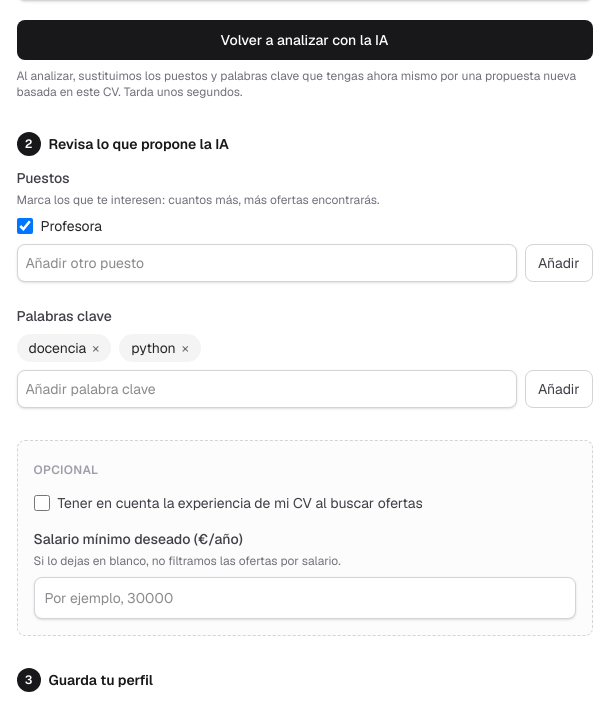
Scenario: FormularioPerfil — B2: propuesta automática de puestos y palabras clave (T86/T88) › permite quitar una palabra clave propuesta que no representa a la usuaria
(page scrolled)
Expected: the text "python" is shown, [131, 338, 176, 356]
Step 1. Click the button named "Quitar python" → (185,348), box [182, 338, 189, 358]
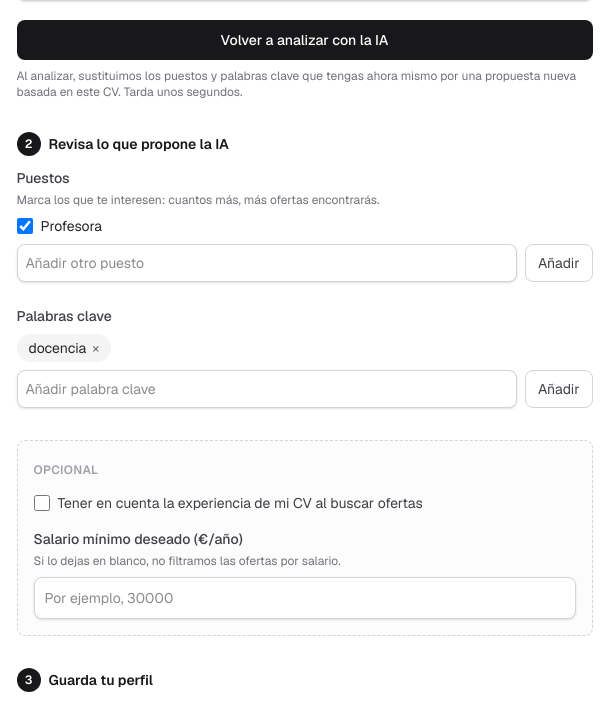
Expected: the text "docencia" is shown, [28, 338, 86, 356]
Expected: the text "python" is gone
